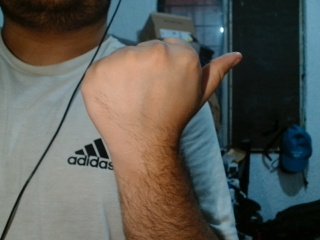Izquierda: (69, 31, 250, 153)
